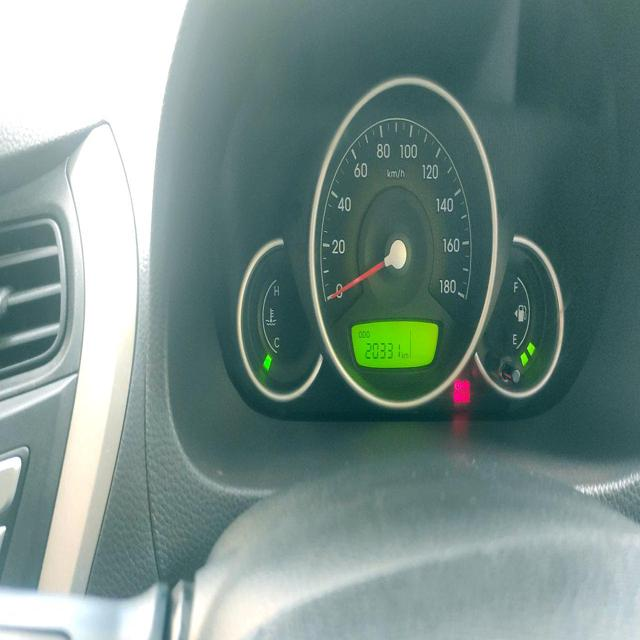odometer: (362, 343, 402, 366)
